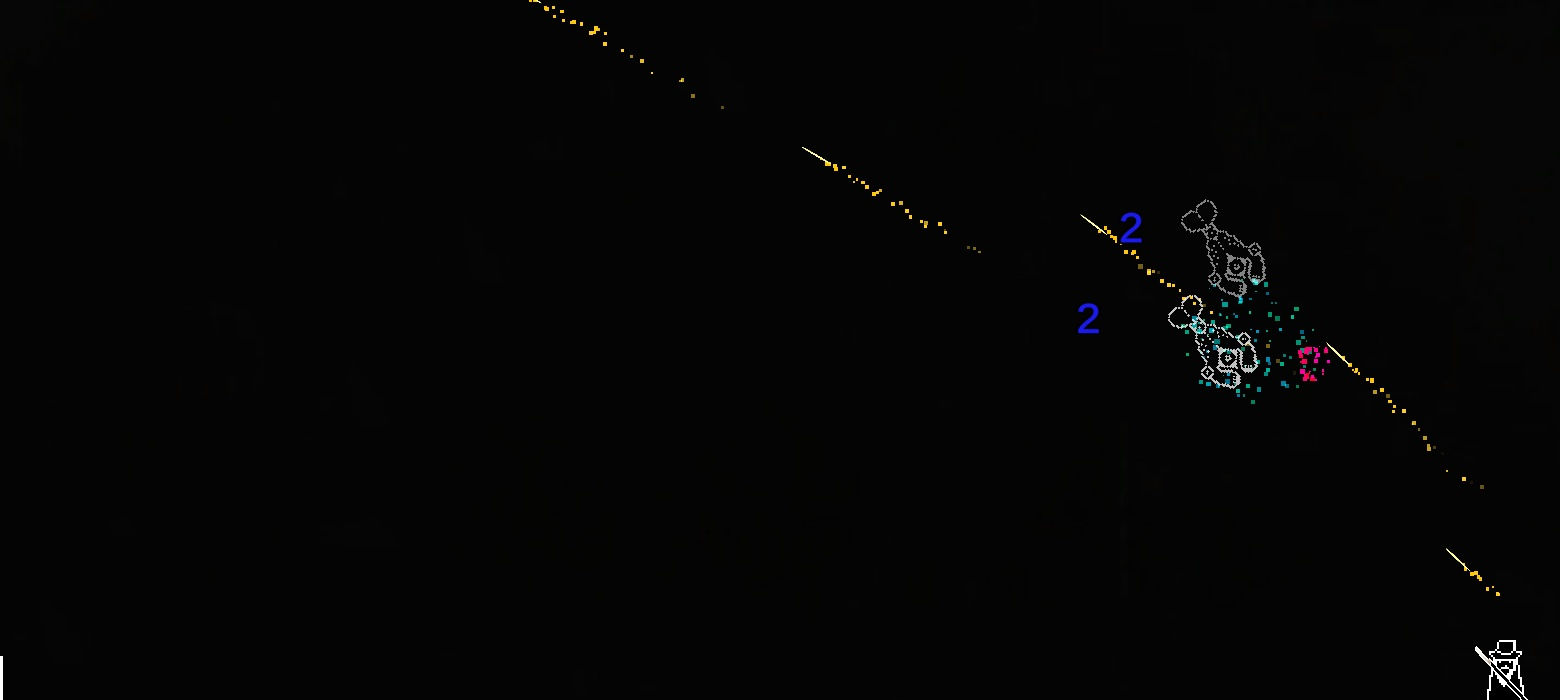enemy: (1167, 294, 1258, 390), (1180, 198, 1266, 297)
